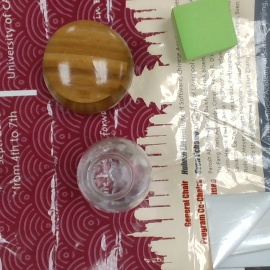bottle: (76, 138, 152, 214)
chess: (43, 21, 133, 111)
